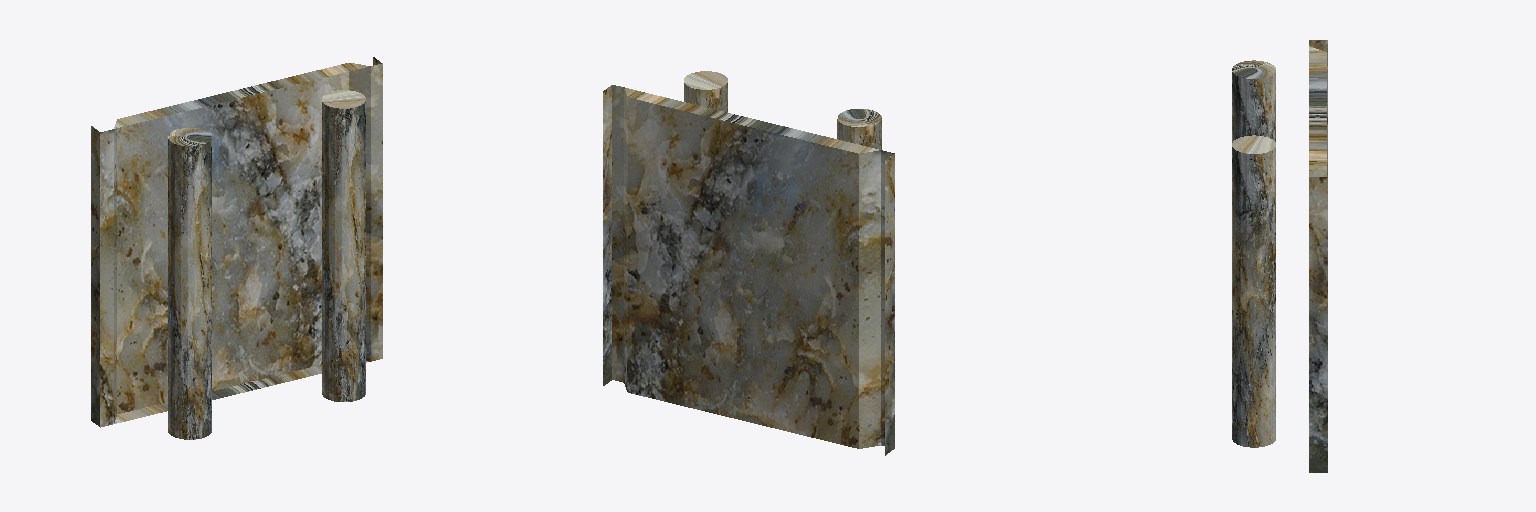
3 views of the same model, side by side, from view 1: azimuth 30°, elevation 25°; view 2: azimuth 150°, elevation 25°; view 3: azimuth 270°, elevation 25° (orthographic).
Visible parts, largest first — view 1: wall; view 2: wall; view 3: wall.
Part boxes in pixels (left/top/right/bottom): wall: left=91, top=57, right=382, bottom=439; wall: left=603, top=71, right=894, bottom=455; wall: left=1232, top=40, right=1327, bottom=472.
Size of the model in its own units: 1 by 1 by 0.2964.
Materials: 1 (1 with a texture image).